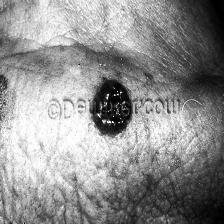Potentially Malignant Skin Tumors: (96, 75, 128, 135)
